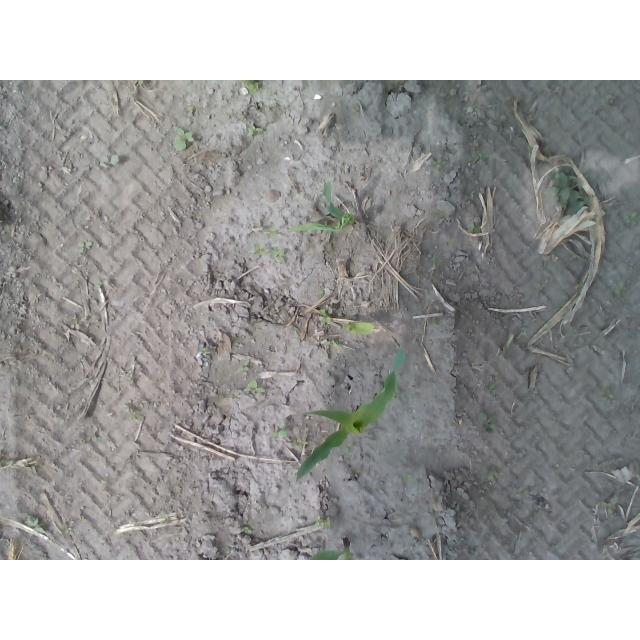Maize: (296, 354, 406, 476)
Weeds: (229, 374, 272, 400)
